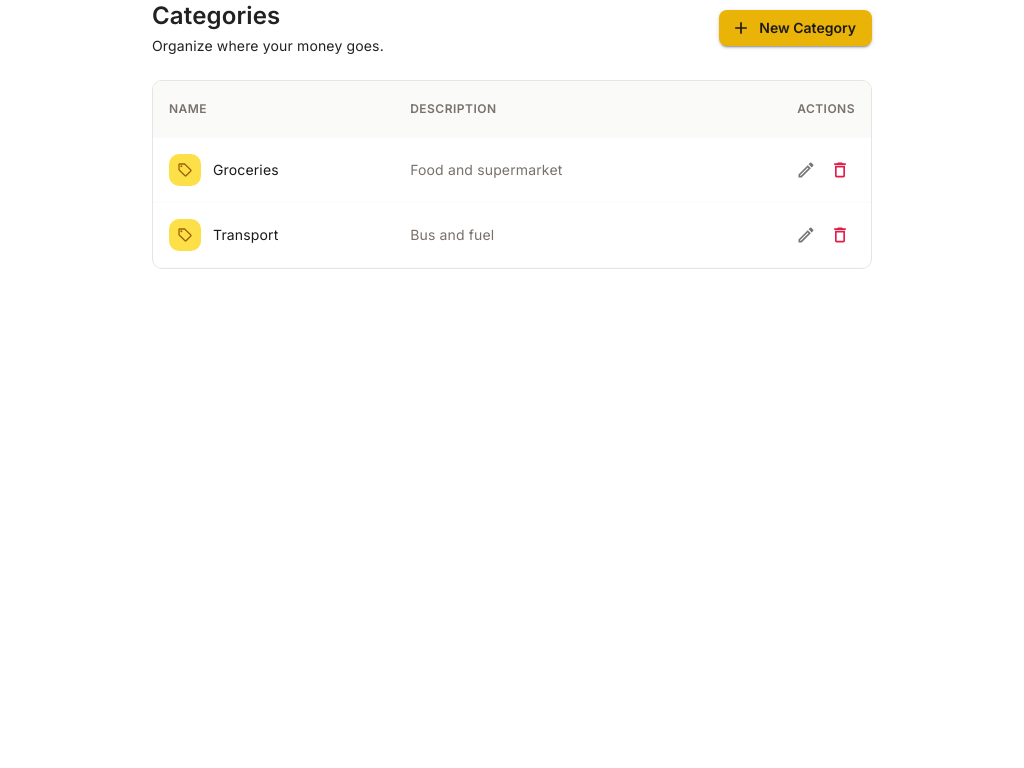
Test: Categories page › opens the edit dialog prefilled with the chosen category
This screenshot has width=1024, height=768.
Click the 2nd button: (806, 170) [791, 155, 821, 185]
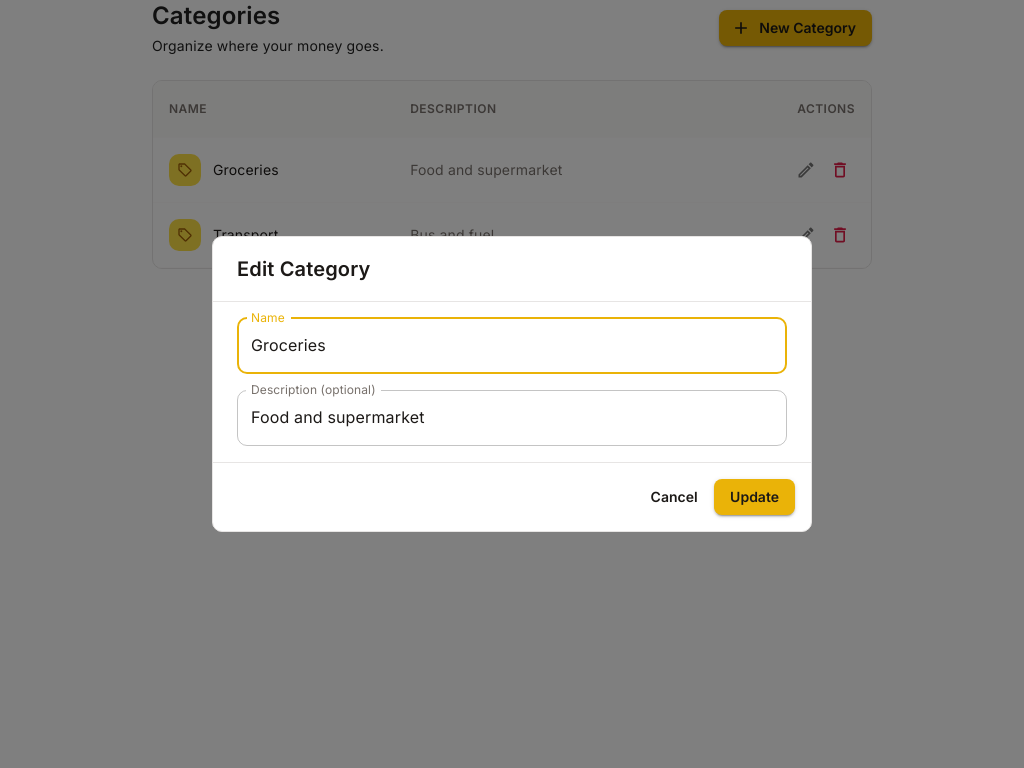
Result: the dialog shows "Edit Category" at [237, 257, 370, 281]
Result: the field labelled "Name" holds "Groceries" at [237, 318, 787, 374]
